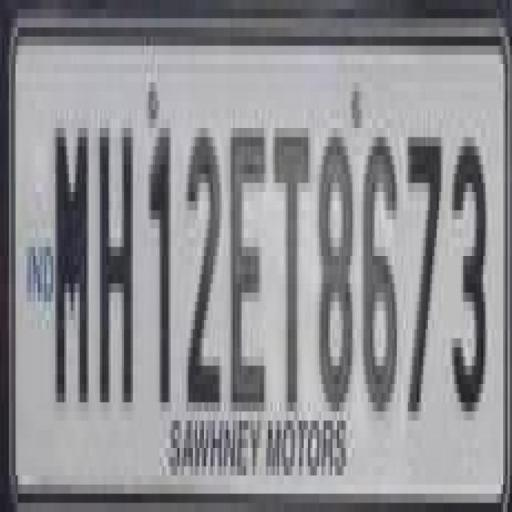number plate: (20, 9, 512, 512)
